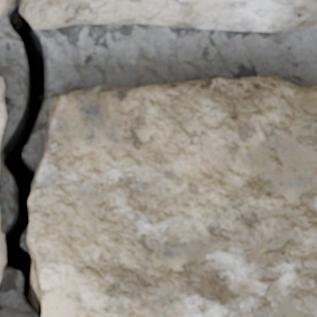brick: (27, 77, 316, 316), (0, 77, 6, 141), (0, 232, 2, 279)
broken_brick: (24, 0, 316, 32), (0, 0, 4, 8)
crack: (0, 0, 47, 316)
